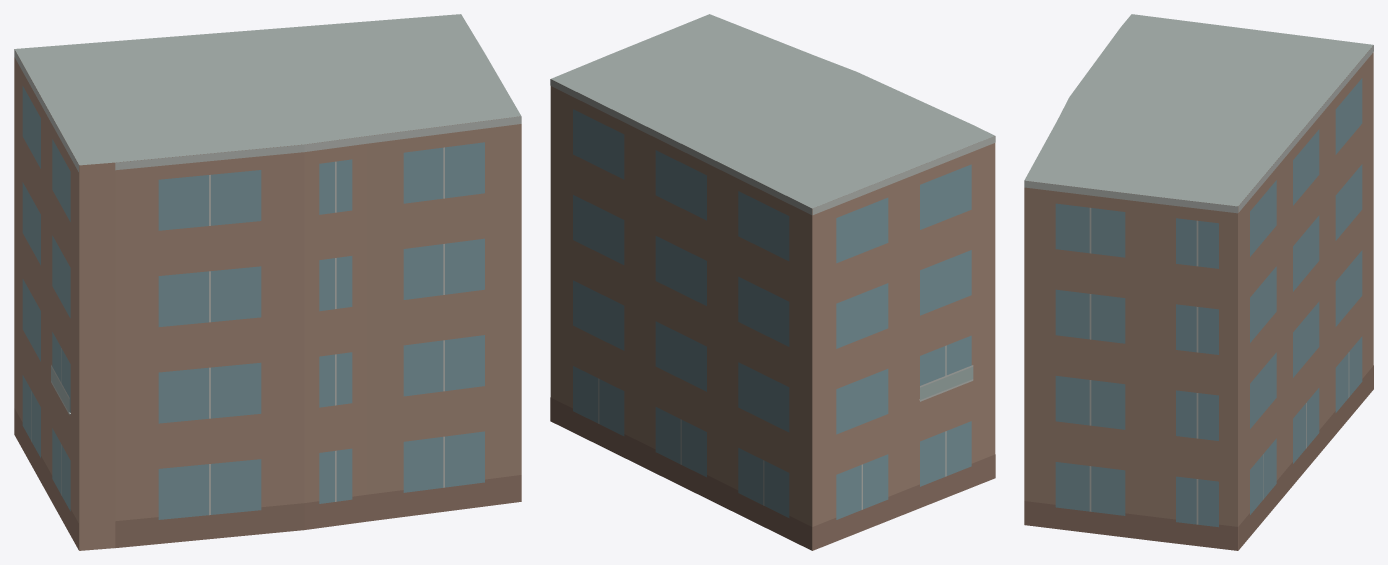
The model's file is survey-upis-32641414.glb.
3 renders of one model, left to right at view 1: azimuth 30°, elevation 25°; view 2: azimuth 150°, elevation 25°; view 3: azimuth 270°, elevation 25°, orthographic. The views are drawn at different scales.
Visible parts, largest first — view 1: survey-upis-32641414.tmp; view 2: survey-upis-32641414.tmp; view 3: survey-upis-32641414.tmp.
Part boxes in pixels (<box>): survey-upis-32641414.tmp: <box>14,14,521,550</box>; survey-upis-32641414.tmp: <box>550,14,995,550</box>; survey-upis-32641414.tmp: <box>1024,14,1373,550</box>.
Size of the model in its own units: 14.63 by 12.2 by 11.23.
